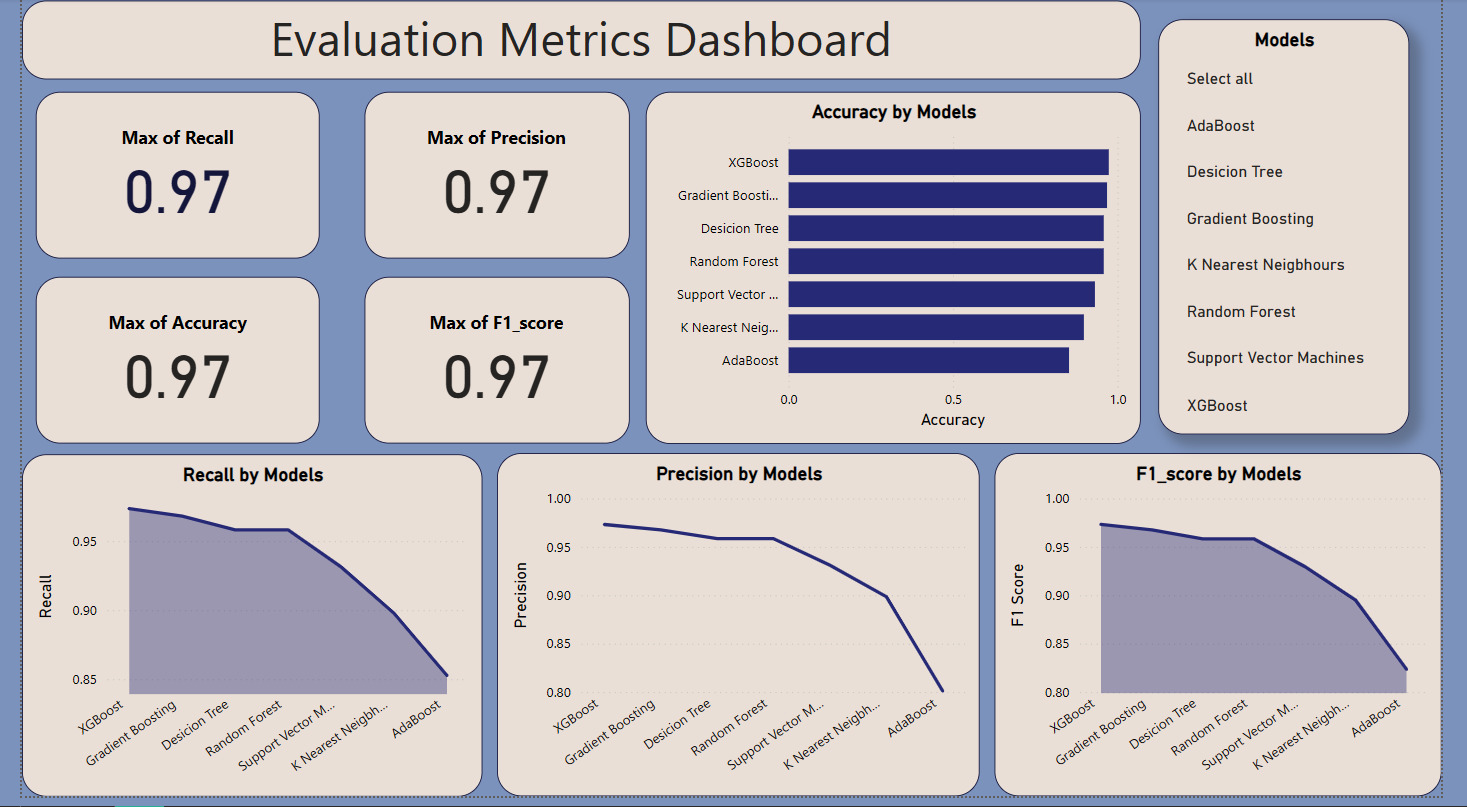

What the dashboard file says about the page in this screenshot:
{"tool":"powerbi","page":{"name":"Page 1","canvas":[1280,720],"ordinal":0},"visuals":[{"type":"barChart","title":"Accuracy by Models","fields":{"Category":["Classification_results.Models"],"Y":["Sum(Classification_results.Accuracy)"]},"box":[562.3,84.6,446.6,317.2],"z":0},{"type":"lineChart","title":"Precision by Models","fields":{"Category":["Classification_results.Models"],"Y":["Sum(Classification_results.Precision)"]},"box":[427.9,410.5,435.4,309.7],"z":1000},{"type":"areaChart","title":"Recall by Models","fields":{"Category":["Classification_results.Models"],"Y":["Sum(Classification_results.Recall)"]},"box":[0,411.8,415.5,308.5],"z":2000},{"type":"stackedAreaChart","title":"F1_score by Models","fields":{"Category":["Classification_results.Models"],"Y":["Sum(Classification_results.F1_score)"]},"box":[877,410.5,403,309.7],"z":3000},{"type":"cardVisual","fields":{"Data":["Max(Classification_results.Recall)"]},"box":[12.4,84.6,256.3,150.5],"z":4000},{"type":"cardVisual","fields":{"Data":["Max(Classification_results.Precision)"]},"box":[308.5,84.6,238.8,150.5],"z":5000},{"type":"cardVisual","fields":{"Data":["Max(Classification_results.Accuracy)"]},"box":[12.4,251.3,256.3,150.5],"z":6000},{"type":"cardVisual","fields":{"Data":["Max(Classification_results.F1_score)"]},"box":[308.5,251.3,238.8,150.5],"z":7000},{"type":"advancedSlicerVisual","fields":{"Values":["Classification_results.Models"]},"box":[1025,18.7,226.4,374.4],"z":8000},{"type":"textbox","box":[0,2.5,1008.9,70.9],"z":8001}]}

Visuals, with their boxes in screenshot pixels (x1, y1, x2, y2), scaled from the page's 1280x720 canvas onto the 1467x807 screenshot:
"Accuracy by Models" barChart: BBox(644, 95, 1156, 450)
"Precision by Models" lineChart: BBox(490, 460, 989, 806)
"Recall by Models" areaChart: BBox(0, 462, 476, 806)
"F1_score by Models" stackedAreaChart: BBox(1005, 460, 1466, 806)
cardVisual - Max(Classification_results.Recall): BBox(14, 95, 308, 264)
cardVisual - Max(Classification_results.Precision): BBox(354, 95, 627, 264)
cardVisual - Max(Classification_results.Accuracy): BBox(14, 282, 308, 450)
cardVisual - Max(Classification_results.F1_score): BBox(354, 282, 627, 450)
advancedSlicerVisual - Classification_results.Models: BBox(1175, 21, 1434, 441)
textbox: BBox(0, 3, 1156, 82)
